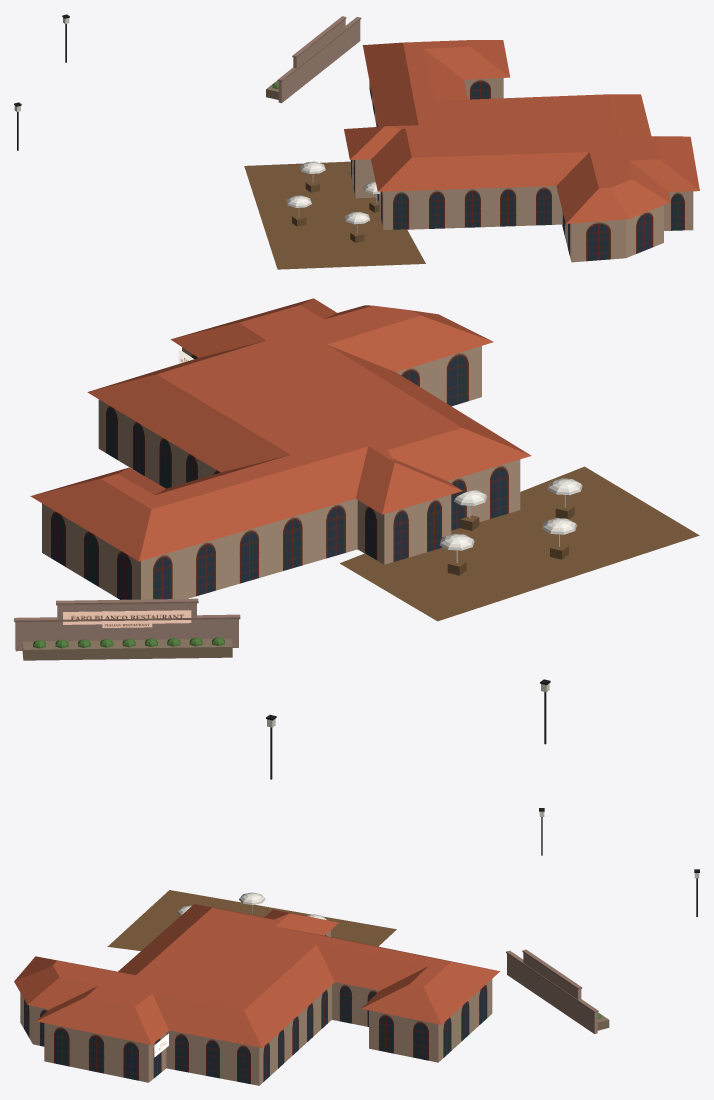
File: farob.glb
The picture shows the model from 3 angles, top to bottom: view 1: azimuth 30°, elevation 25°; view 2: azimuth 150°, elevation 25°; view 3: azimuth 270°, elevation 25°; orthographic projection. The views are drawn at different scales.
Visible parts, largest first — view 1: farob_lod0; view 2: farob_lod0; view 3: farob_lod0.
Boxes of the visible parts, x1,y1,x2,y2 form: farob_lod0: (14, 14, 699, 269); farob_lod0: (14, 298, 699, 779); farob_lod0: (14, 808, 699, 1085).
Size of what is drawn, in the model's own units: 53.76 by 6.2 by 66.3.
Materials: 13 (2 with a texture image).
